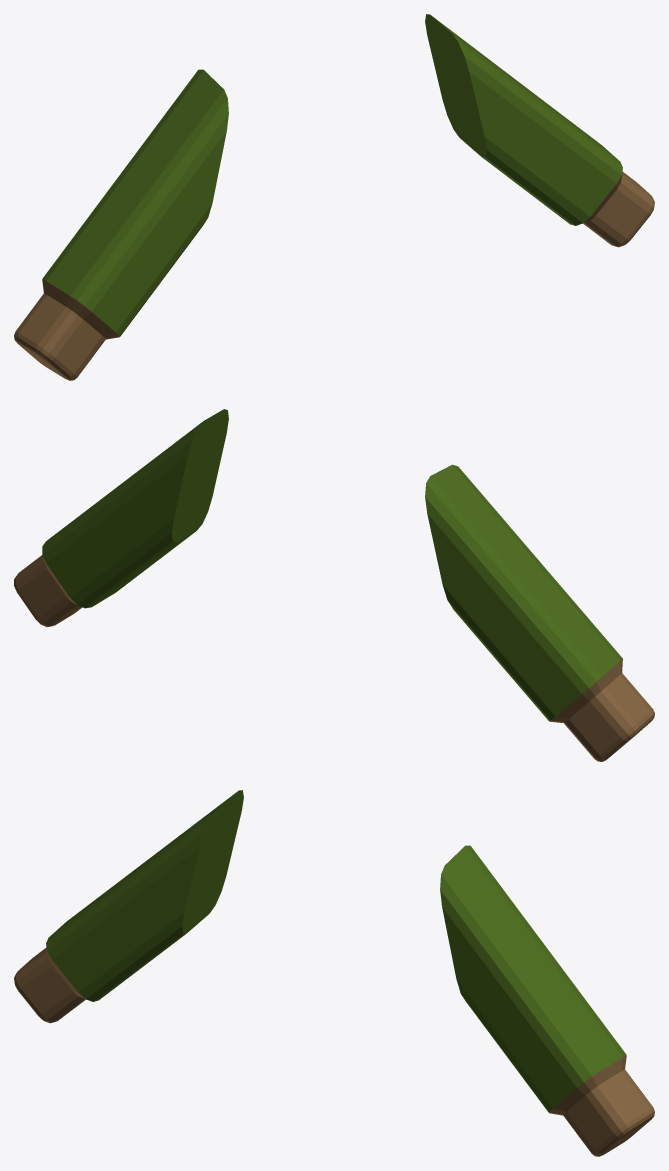
The model's file is PlayerArms.glb.
3 renders of one model, top to bottom at view 1: azimuth 30°, elevation 25°; view 2: azimuth 150°, elevation 25°; view 3: azimuth 330°, elevation 25°, orthographic.
Parts seen in each view (by area): view 1: PlayerArms; view 2: PlayerArms; view 3: PlayerArms.
Boxes of the visible parts, left/top/right/bottom form: PlayerArms: left=14, top=14, right=654, bottom=380; PlayerArms: left=14, top=409, right=654, bottom=761; PlayerArms: left=14, top=790, right=654, bottom=1156.
Size of the model in its own units: 1.28 by 0.4935 by 0.1658.
